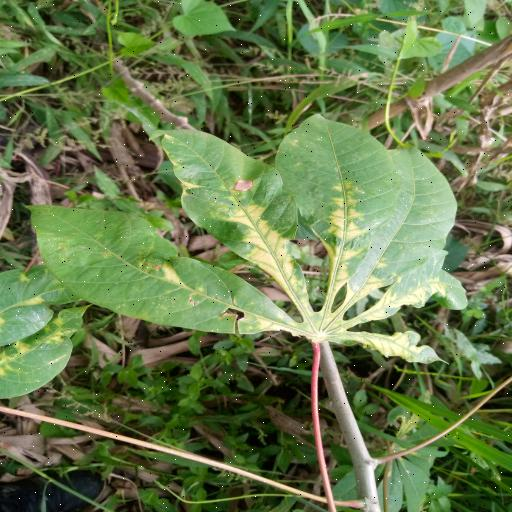Cassava_Mosaic: (28, 111, 512, 365)
